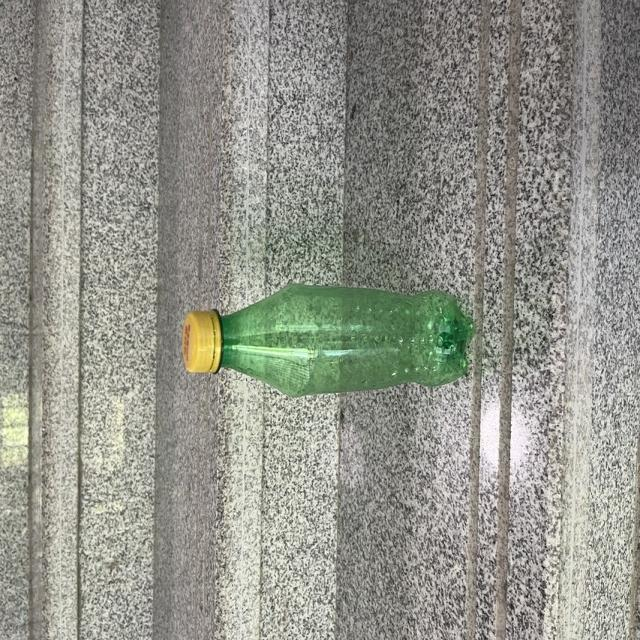empty: (182, 284, 473, 396)
